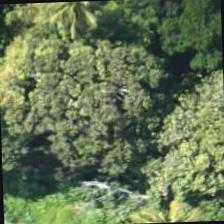Kelapa_Sawit: (27, 0, 119, 49)
